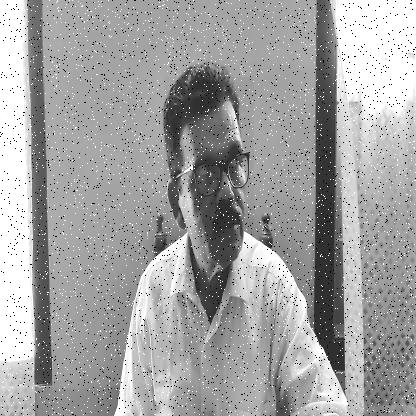Distracted: (164, 77, 254, 277)
